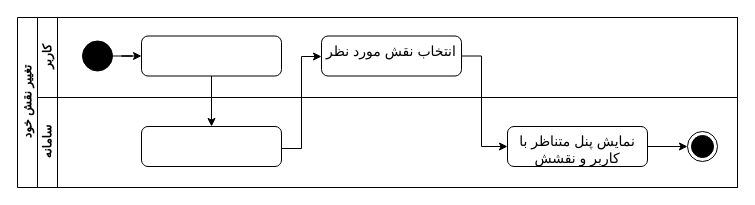
The diagram is 755 pixels wide and 205 high, and some of its shapes have lost their labels. The shapes that lost their labels are listed below. From the top down, each one's centre as x and y in pixels, then its label:
point 211,55: درخواست تغییر نقش خود
point 211,146: نمایش نقش‌های کاربر
